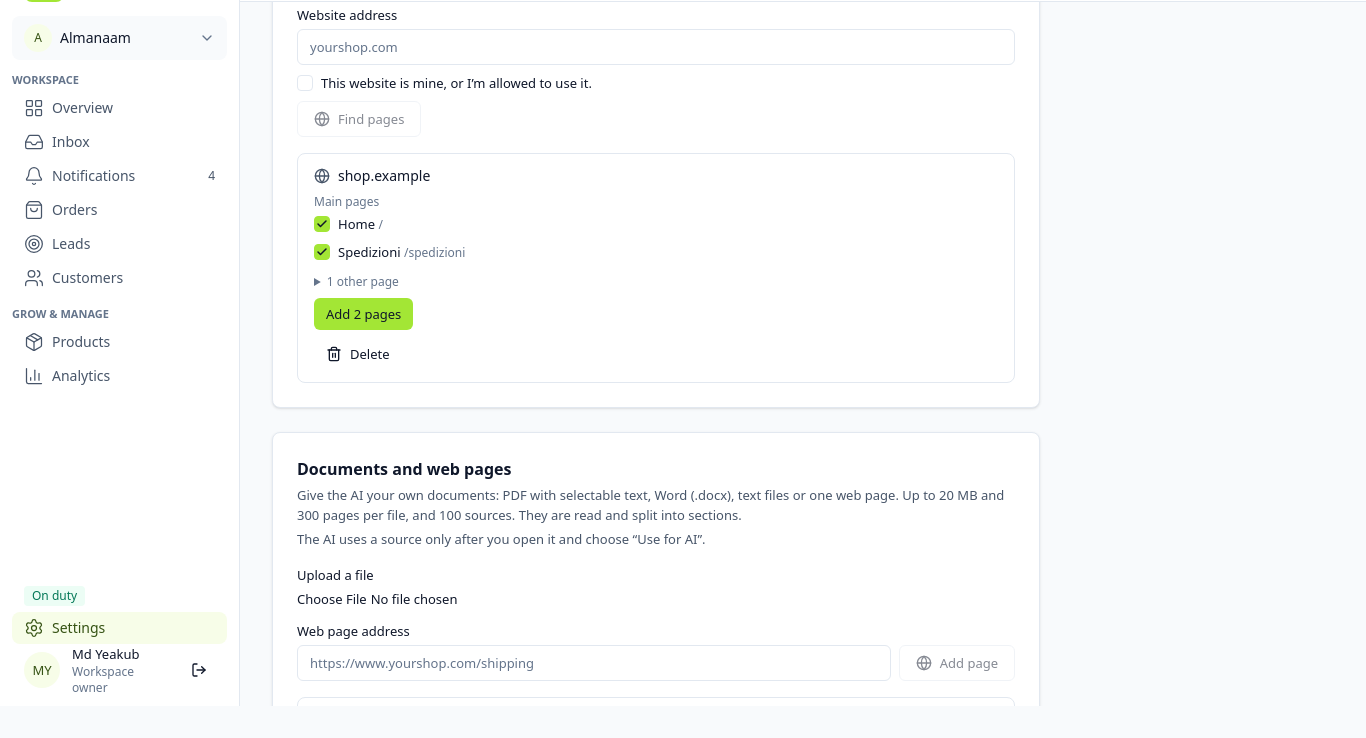
it: Settings → Shop knowledge → Website › deletes a site with its pages after confirming
The image size is (1366, 738).
(page scrolled)
Click the button with aria-label "Delete shop.example" at (358,354), box [314,338,402,370]
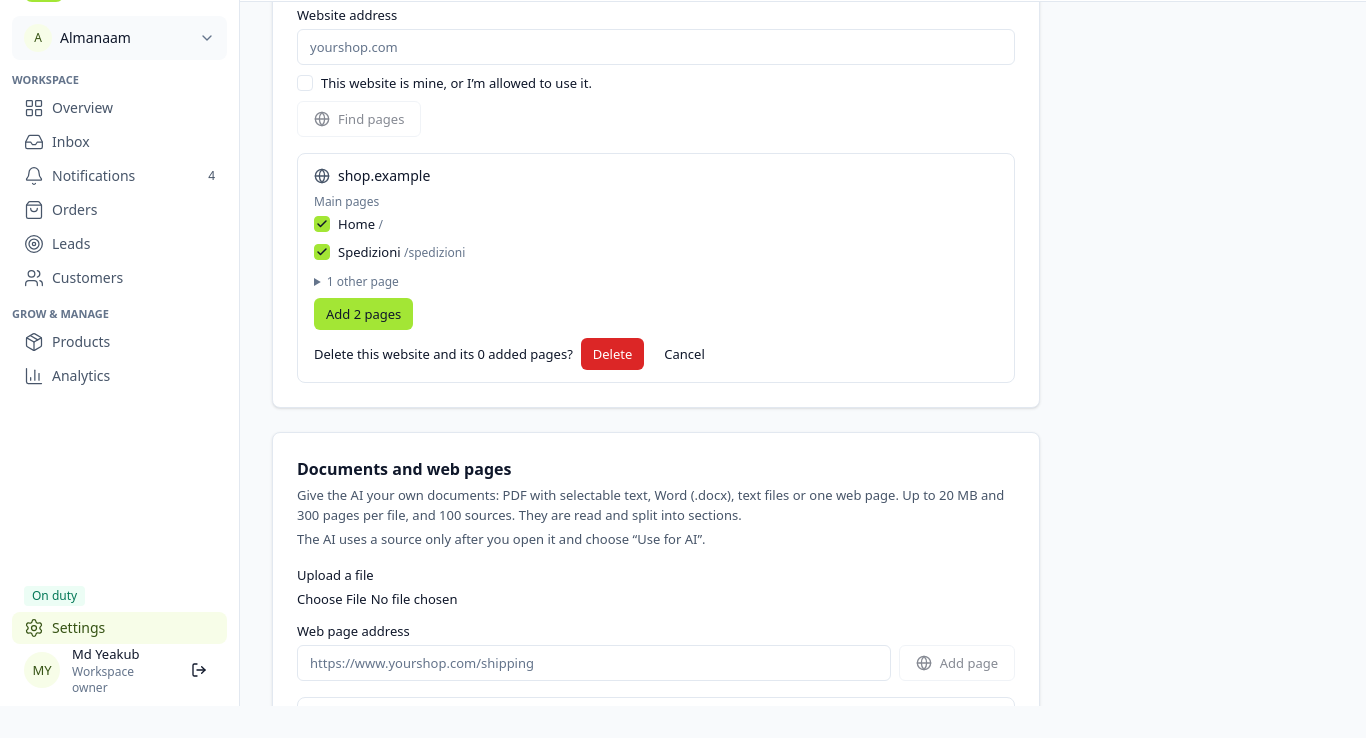
Click the button "Delete" at (613,354), box [581,338,644,370]
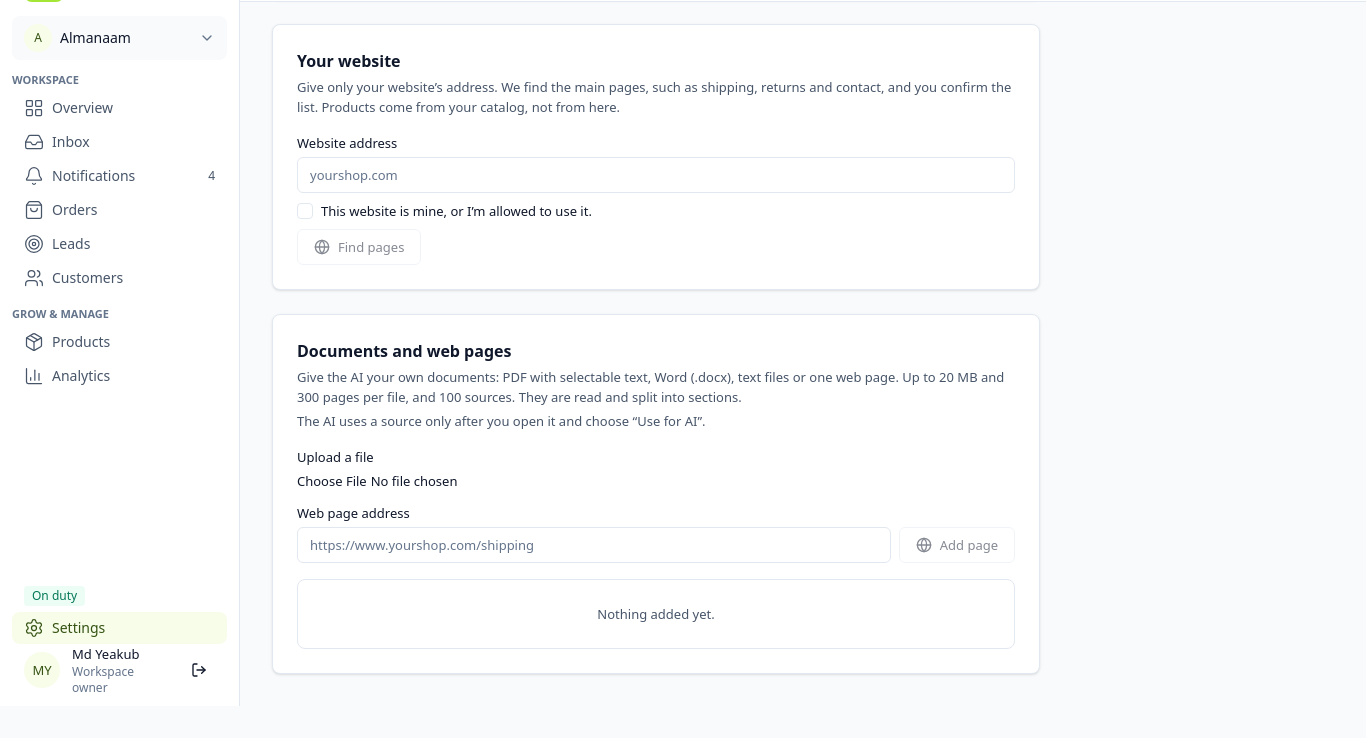
Expected: the list "Websites" is gone
